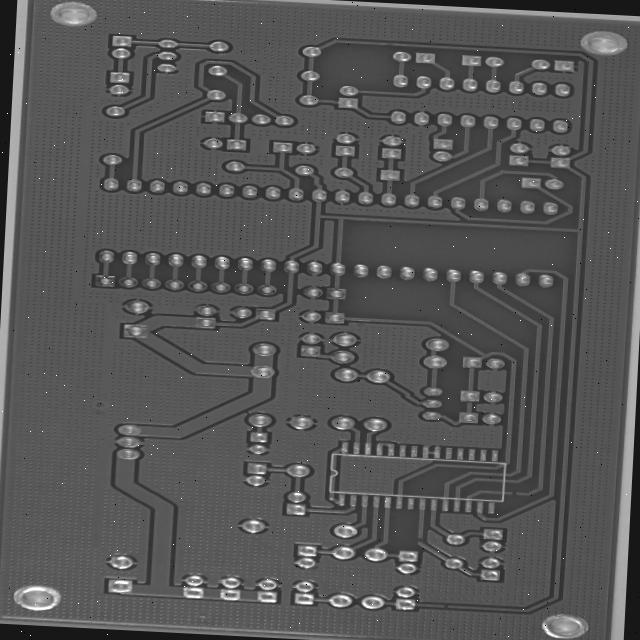open_circuit: (466, 535, 482, 546), (497, 604, 512, 613), (574, 488, 590, 496)
